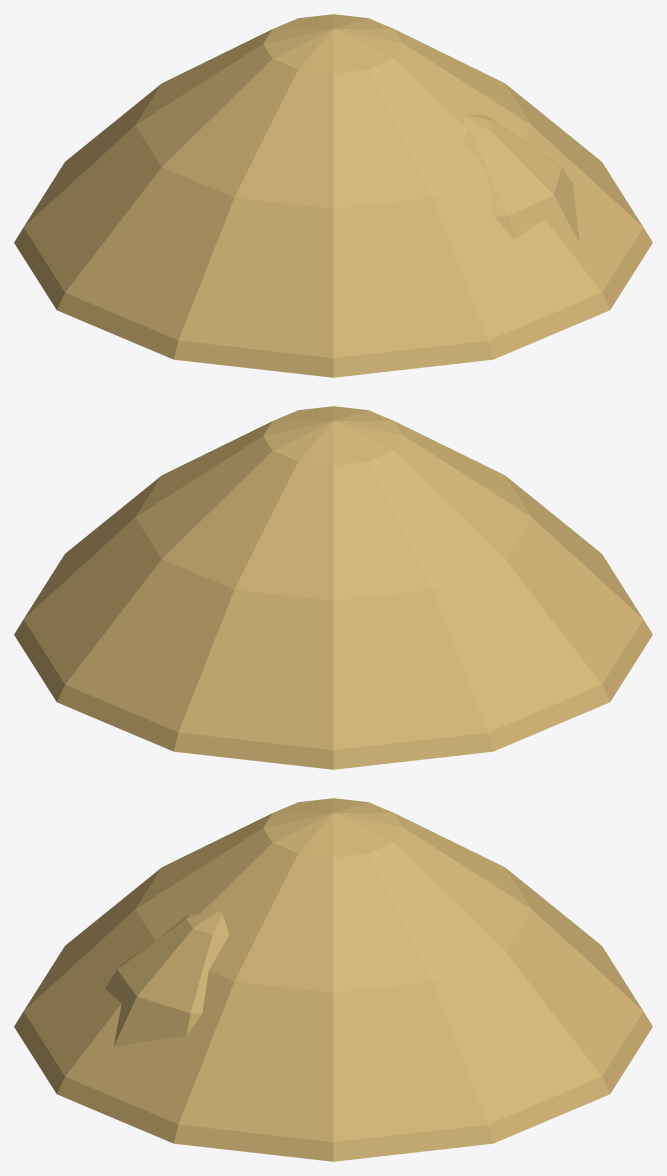
File: pile_sand_b.glb
3 views of the same model, one above another, from view 1: azimuth 30°, elevation 25°; view 2: azimuth 150°, elevation 25°; view 3: azimuth 270°, elevation 25° (orthographic).
Visible parts, largest first — view 1: pile_sand_b; view 2: pile_sand_b; view 3: pile_sand_b.
Part boxes in pixels (bbox=[...]): pile_sand_b: bbox=[14, 14, 652, 377]; pile_sand_b: bbox=[14, 406, 652, 769]; pile_sand_b: bbox=[14, 798, 652, 1161].
Bounding box in the file's own units: 13 × 4.8 × 13.
